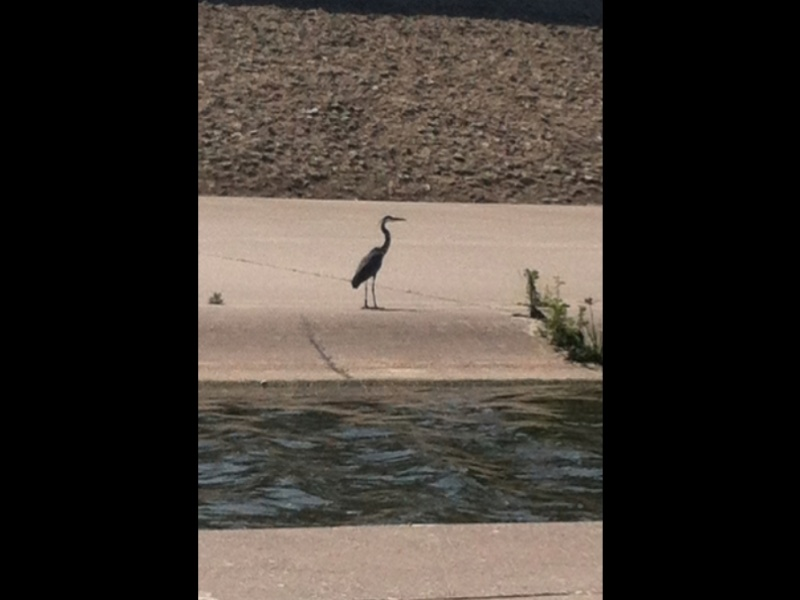heron: (350, 214, 405, 311)
